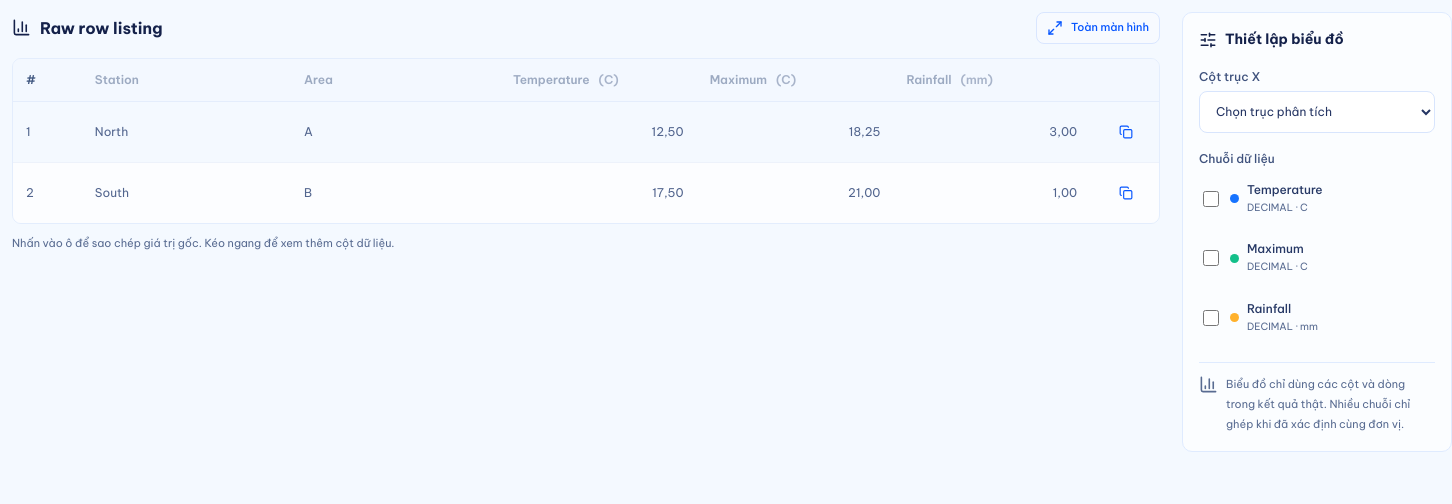
Test: result shape and chart controls › keeps explicit row-list table recommendations and allows deliberate chart setup
Check: the table is shown, box 13,59 -> 1159,223
Select "Station" in the dropdown labelled "Cột trục X": (1317,112) 1199,91 -> 1435,133
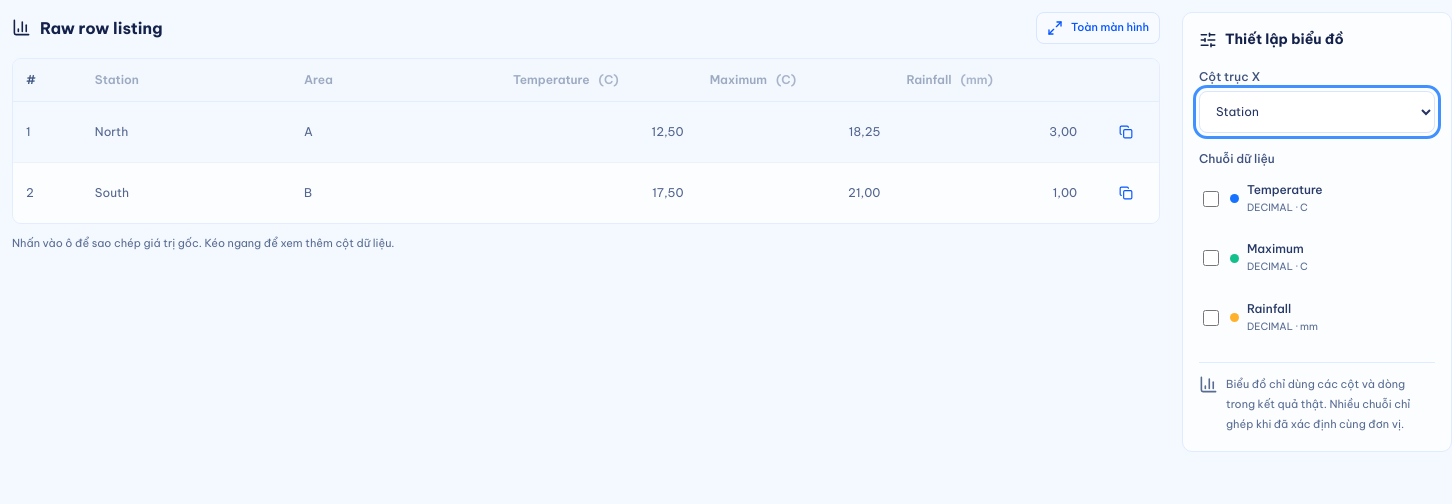
Click the checkbox labelled "Temperature DECIMAL · C": (1211,199) 1203,191 -> 1219,207
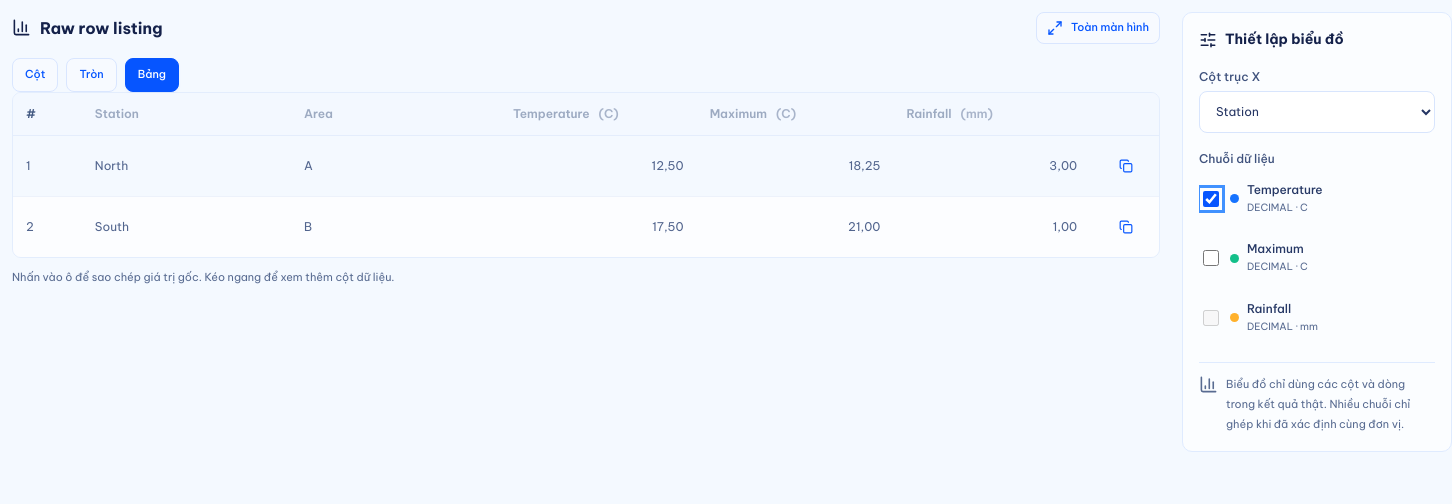
Click the button "Cột": (35,75) 12,58 -> 58,92
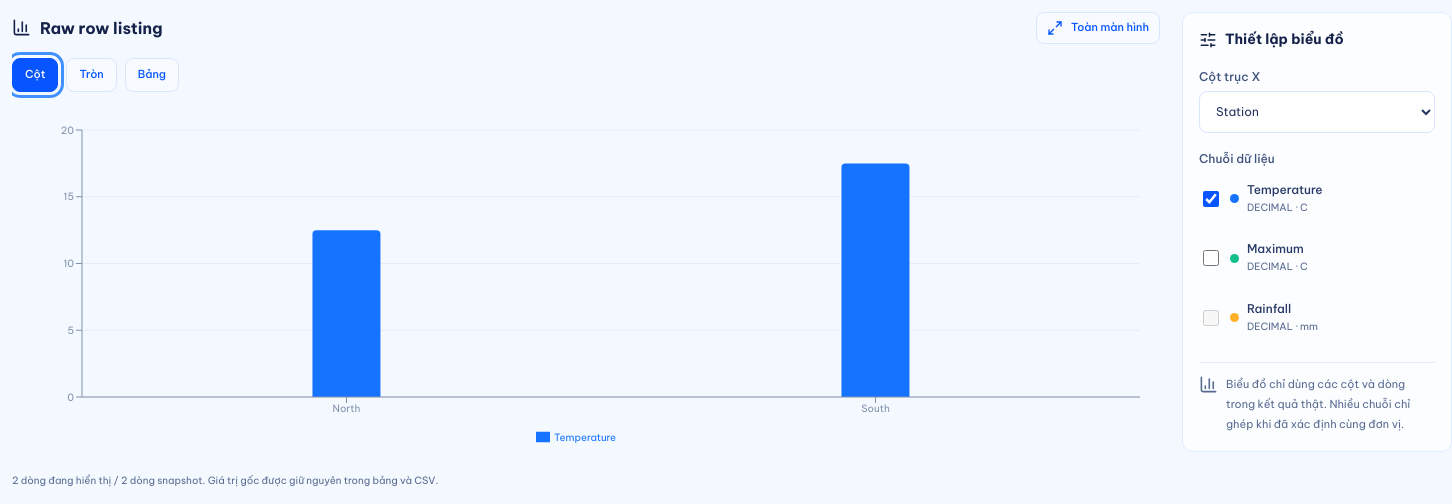
Check: the table is gone
